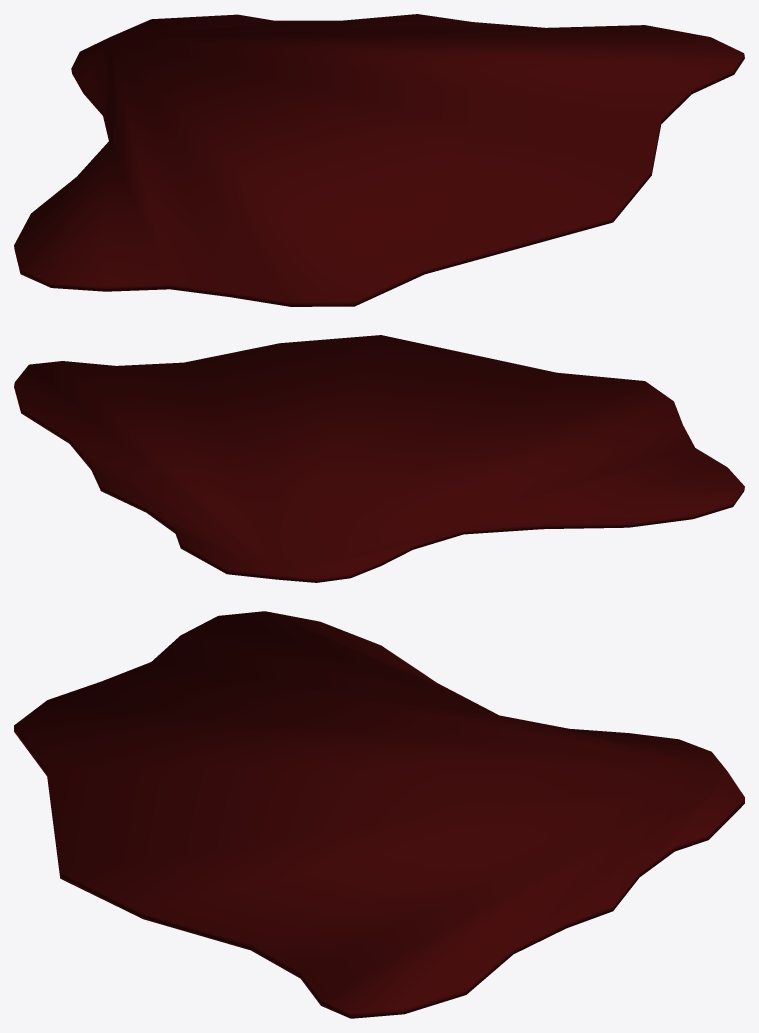
Rendered from лужа крови.fbx.
The picture shows the model from 3 angles, top to bottom: view 1: azimuth 30°, elevation 25°; view 2: azimuth 150°, elevation 25°; view 3: azimuth 270°, elevation 25°; orthographic projection. The views are drawn at different scales.
Visible parts, largest first — view 1: Circle; view 2: Circle; view 3: Circle.
Boxes of the visible parts, bbox=[...] form: Circle: bbox=[14, 14, 744, 306]; Circle: bbox=[14, 335, 744, 582]; Circle: bbox=[14, 611, 744, 1018].
Size of the model in its own units: 3.02 by 0.0205 by 2.32.
